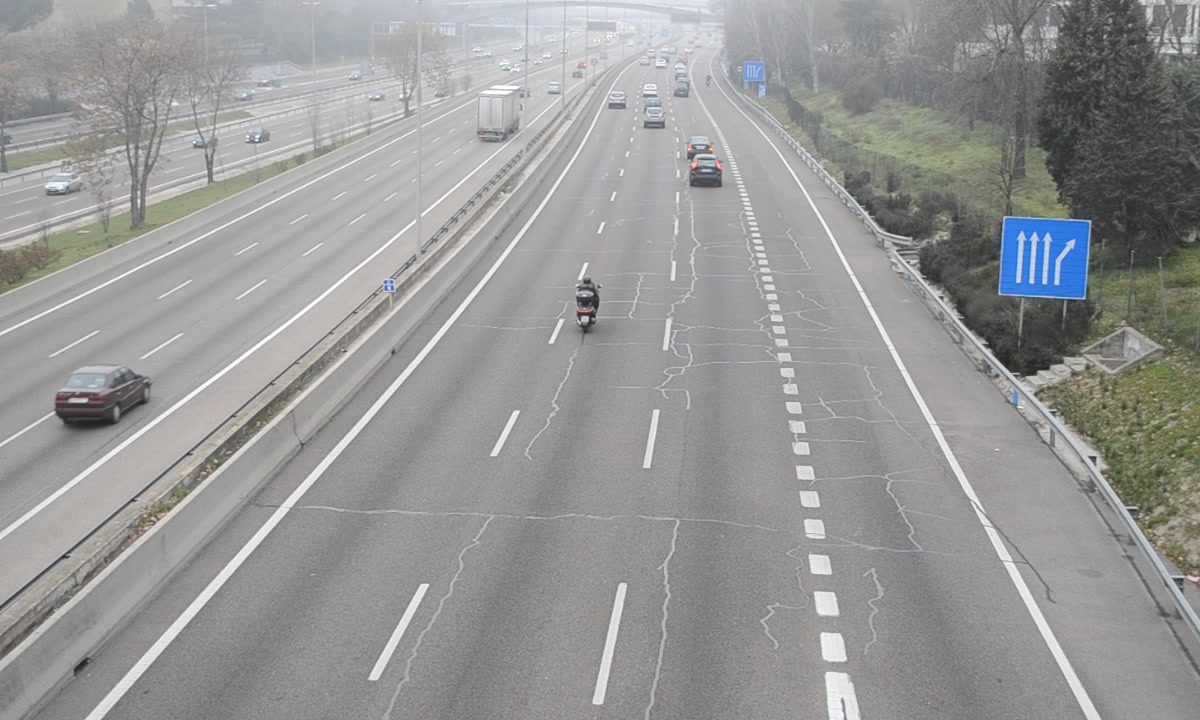car: (689, 154, 723, 187), (687, 136, 714, 156)
motorcycle: (573, 275, 600, 335)
